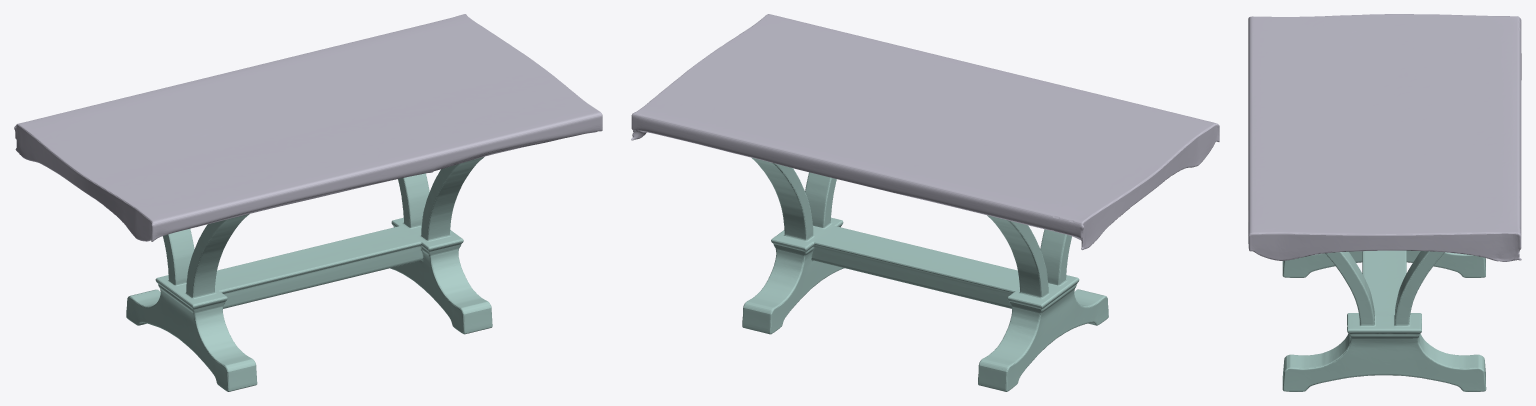
3 views of the same model, side by side, from view 1: azimuth 30°, elevation 25°; view 2: azimuth 150°, elevation 25°; view 3: azimuth 270°, elevation 25° (orthographic).
Parts seen in each view (by area): view 1: world; view 2: world; view 3: world.
Part boxes in pixels (x1,y1,x2,y2): world: (14, 14, 602, 391); world: (631, 14, 1219, 391); world: (1248, 14, 1521, 391).
Bounding box in the file's own units: 1.91 × 0.8226 × 0.9987.
